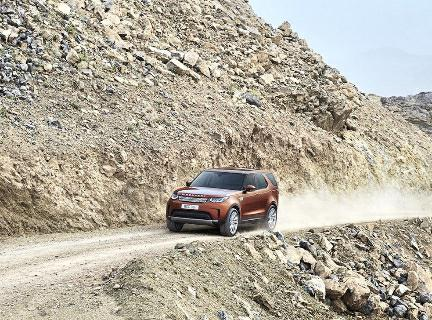路虎-揽胜运动版: (162, 167, 284, 241)
